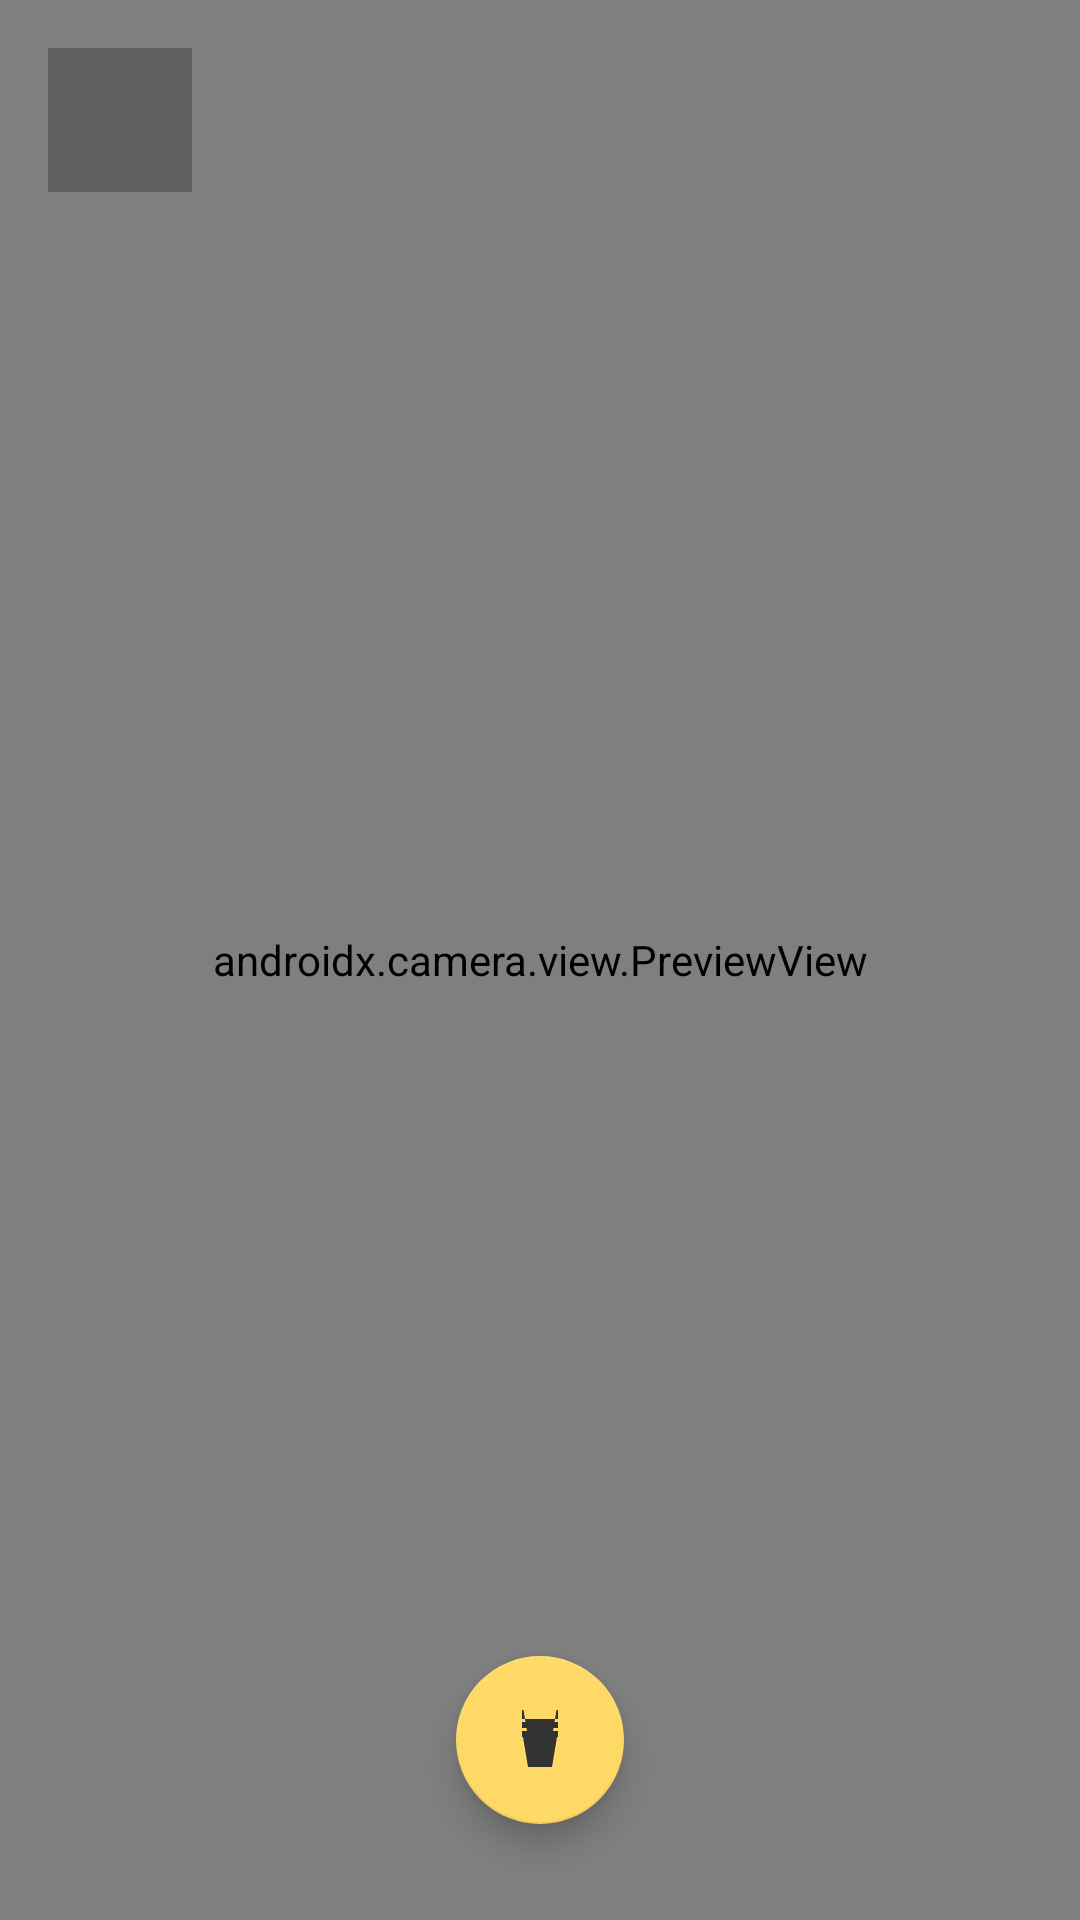

Point at icon controls on the screen. Image size 1080w x 1920h, points as point (x, y).
flashlight: point (540, 1740)
